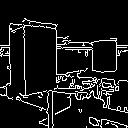cube: (6, 22, 60, 97), (84, 35, 121, 78)
